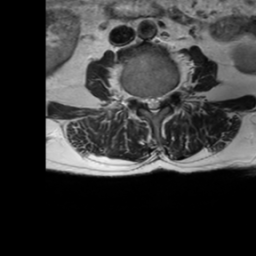CCS_normal: (150, 91, 156, 117)
LFS_stenosis: (163, 86, 170, 102)
LLS_normal: (156, 91, 163, 114)
RFS_normal: (137, 89, 145, 109)
RLS_normal: (145, 91, 151, 115)
